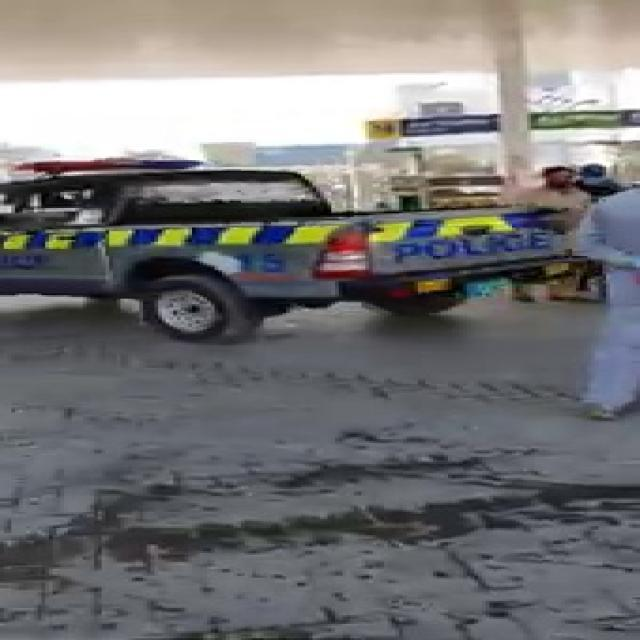police: (0, 174, 523, 320)
